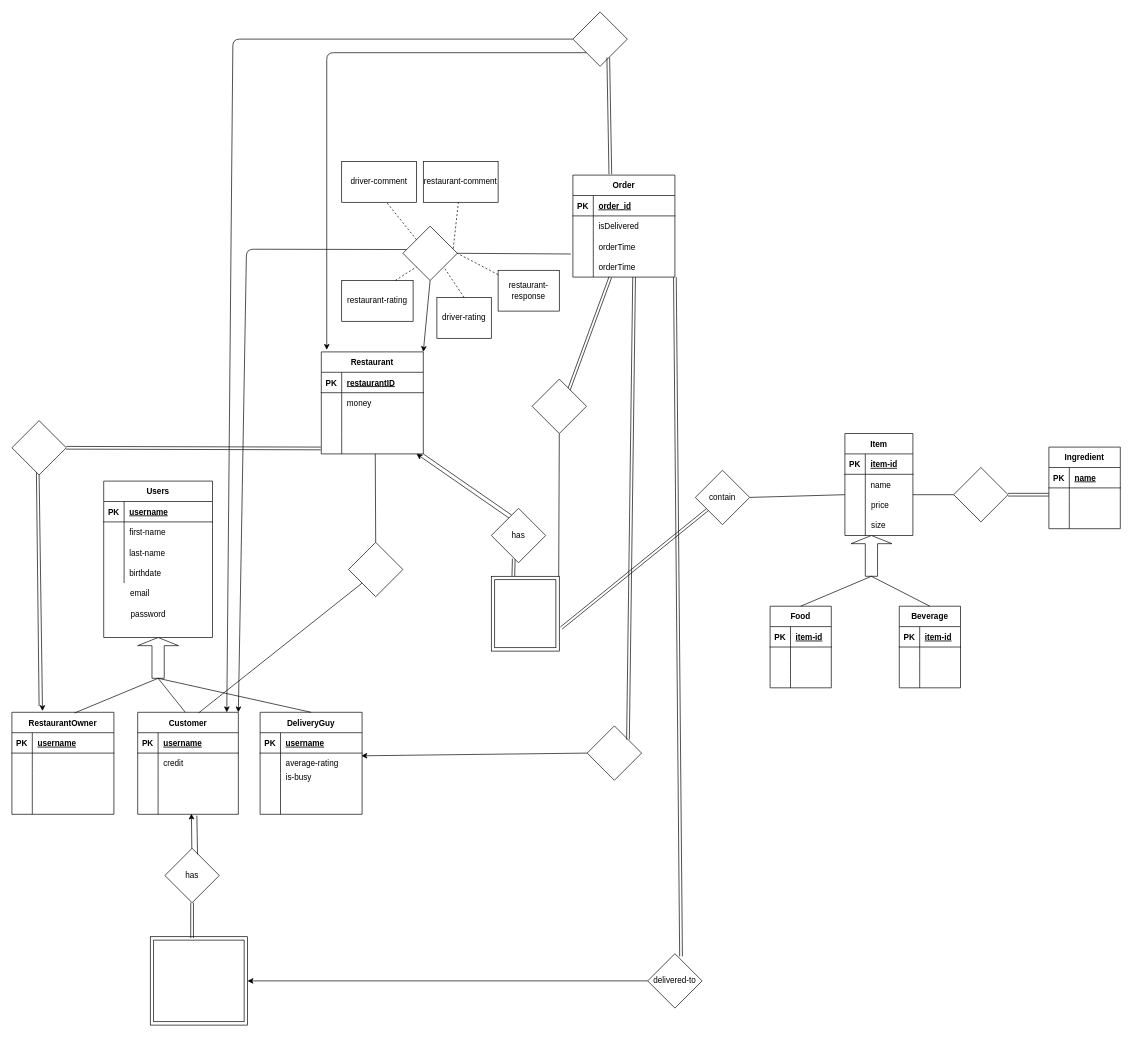
The diagram is 1132 pixels wide and 1037 high, and some of its shapes have lost their labels. Here are the shapes that lost their labels. From the top down, the centre of each, then its label:
At point 599,38: "complete".
At point 429,252: "review".
At point 558,406: "consist-of".
At point 38,447: "owns".
At point 980,494: "include".
At point 375,569: "favorite".
At point 525,613: "Menu menu-name menuDiscount".
At point 614,752: "delivered-by".
At point 199,980: "Address adress-name address phone_number".
